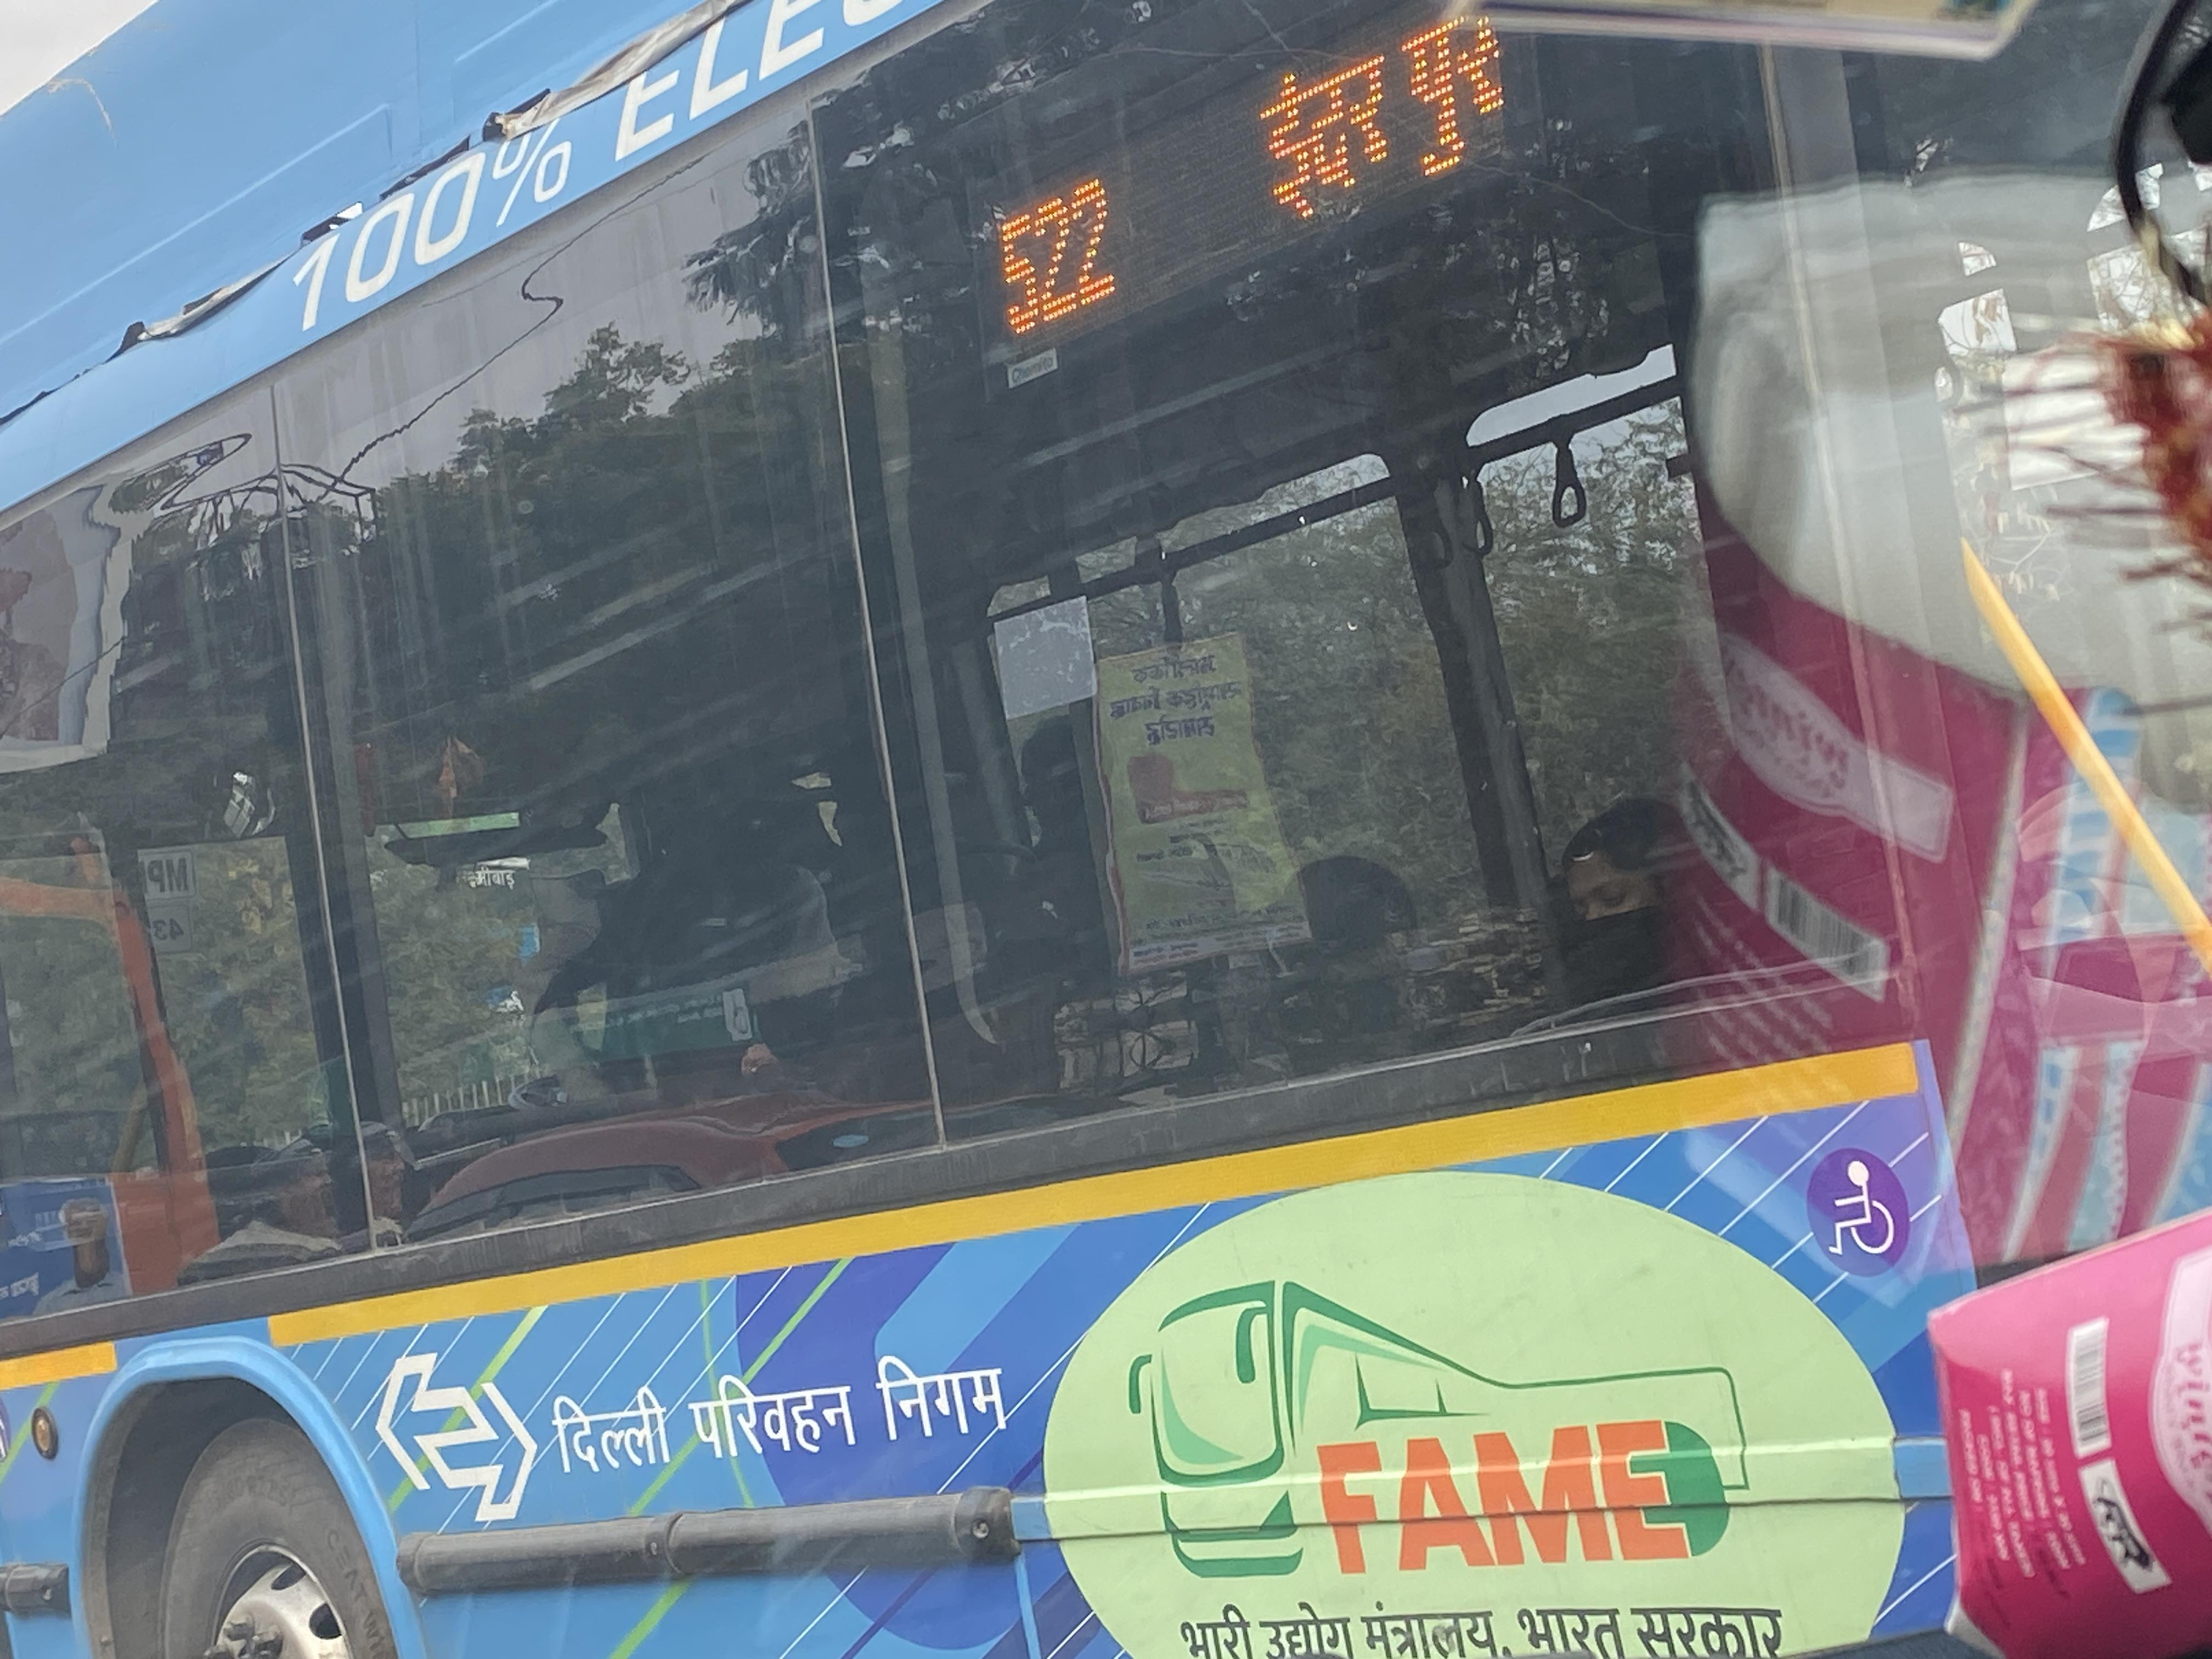Bus: (0, 0, 2184, 1643)
Display Board: (932, 33, 1689, 416)
